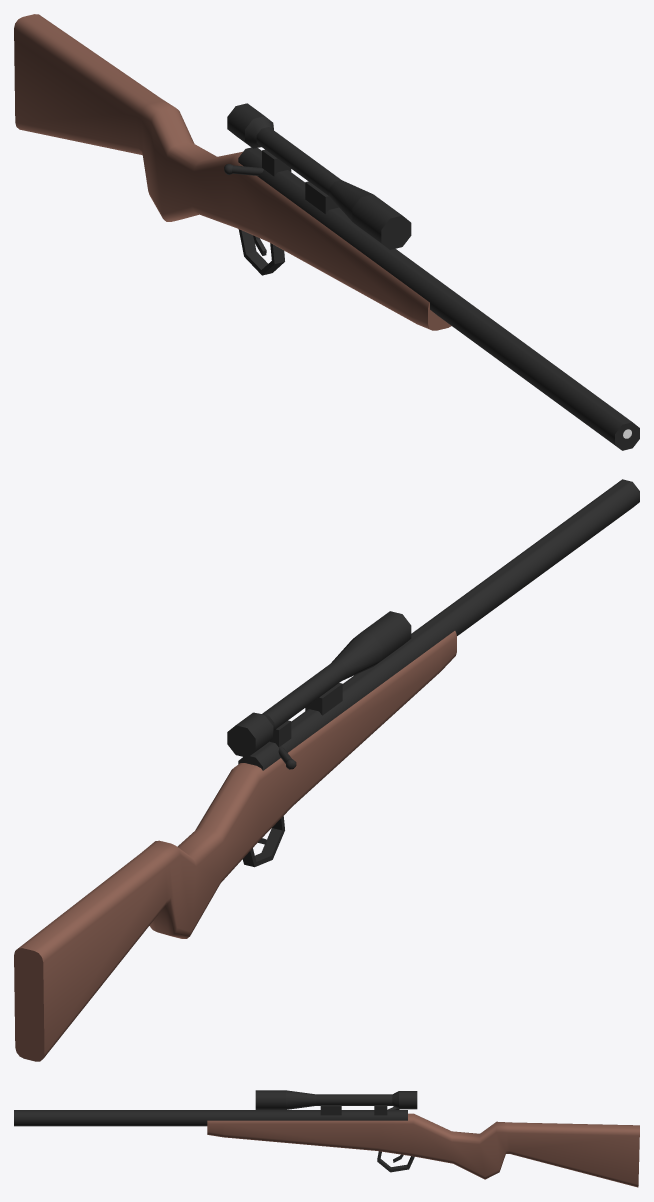
3 renders of one model, top to bottom at view 1: azimuth 30°, elevation 25°; view 2: azimuth 150°, elevation 25°; view 3: azimuth 270°, elevation 25°, orthographic. The views are drawn at different scales.
Visible parts, largest first — view 1: M40_Body_32; view 2: M40_Body_32; view 3: M40_Body_32.
Boxes of the visible parts, box(x1,y1,x2,y2) form: M40_Body_32: box(14, 14, 639, 450); M40_Body_32: box(14, 479, 639, 1061); M40_Body_32: box(14, 1090, 639, 1187).
Size of the model in its own units: 0.1134 by 0.3857 by 2.33.
